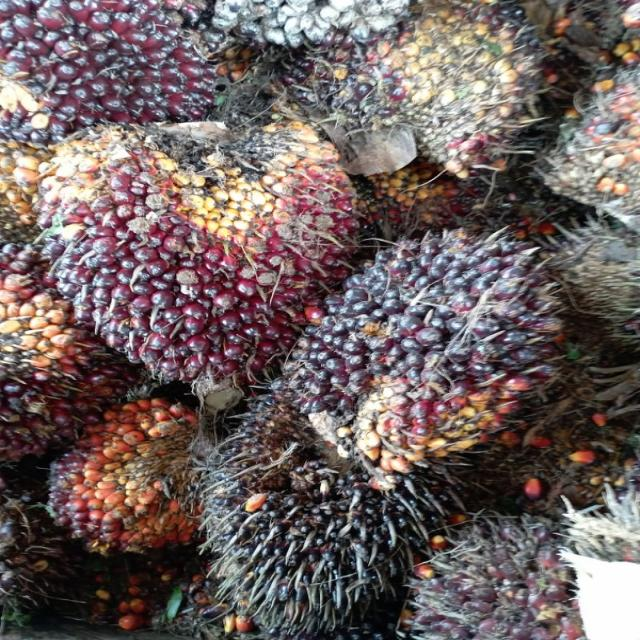fraksi 00: (297, 240, 558, 463), (189, 395, 433, 633)
fraksi 1: (29, 112, 363, 392), (0, 0, 248, 136)
fraksi 3: (37, 397, 233, 552)
